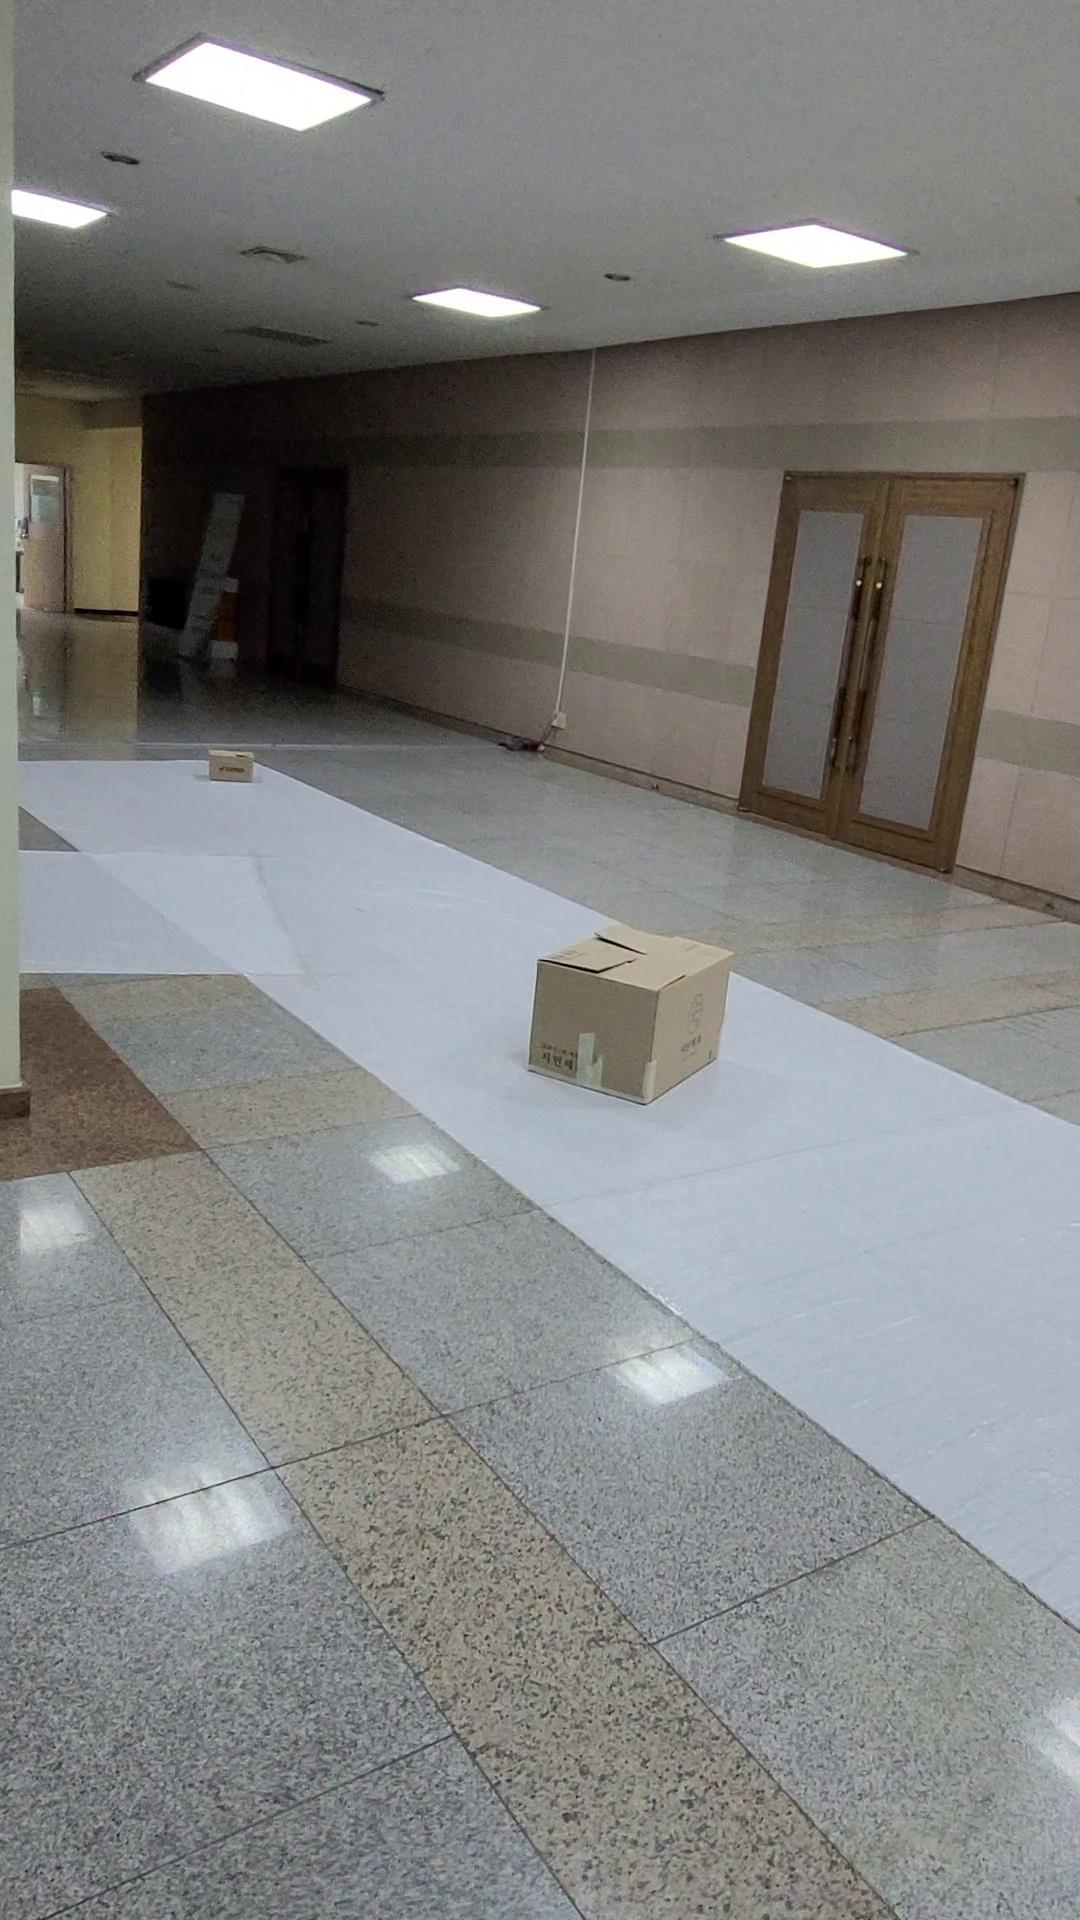Box: (493, 905, 774, 1105)
